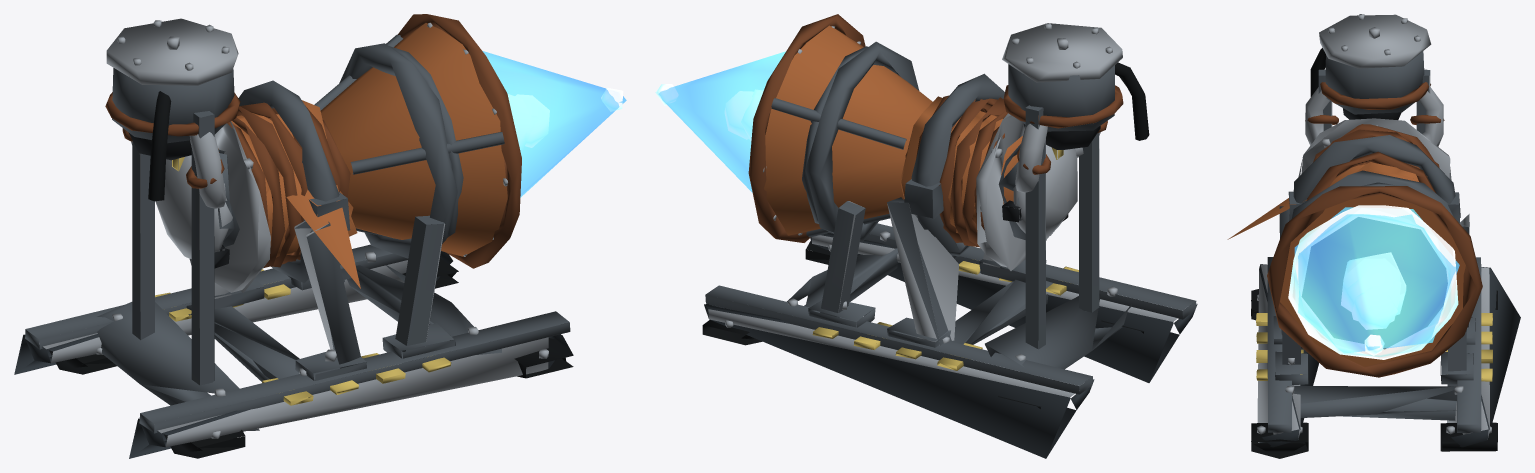
Rendered from thrust.glb.
3 views of the same model, side by side, from view 1: azimuth 30°, elevation 25°; view 2: azimuth 150°, elevation 25°; view 3: azimuth 270°, elevation 25° (orthographic). The views are drawn at different scales.
Parts seen in each view (by area): view 1: tobera, patin_1, llama, patin_alma_1, travesano_3, bomba_tapa, collar_tobera, brida_inyector, tobera_labio, bomba_pata_1, patin_-1, bomba (+30 smaller); view 2: tobera, patin_-1, patin_1, llama, patin_alma_-1, montante_-1, collar_tobera, bomba_tapa, travesano_3, abrazadera, tobera_labio, brida_inyector (+25 smaller); view 3: llama, tobera, tobera_labio, llama_flare, travesano_1, bomba_tapa, patin_-1, abrazadera, bomba, patin_1, patin_alma_-1, patin_alma_1 (+23 smaller).
Boxes of the visible parts, x1=… form: tobera: x1=320, y1=23, x2=507, y2=256; patin_1: x1=129, y1=334, x2=567, y2=458; llama: x1=482, y1=51, x2=626, y2=197; patin_alma_1: x1=139, y1=311, x2=570, y2=433; travesano_3: x1=97, y1=302, x2=259, y2=430; bomba_tapa: x1=106, y1=18, x2=238, y2=85; collar_tobera: x1=339, y1=43, x2=457, y2=258; brida_inyector: x1=189, y1=121, x2=270, y2=292; tobera_labio: x1=398, y1=14, x2=521, y2=268; bomba_pata_1: x1=191, y1=111, x2=214, y2=385; patin_-1: x1=14, y1=251, x2=452, y2=374; bomba: x1=112, y1=68, x2=234, y2=143; tobera: x1=764, y1=25, x2=932, y2=235; patin_-1: x1=704, y1=303, x2=1094, y2=458; patin_1: x1=810, y1=233, x2=1197, y2=382; llama: x1=658, y1=51, x2=785, y2=192; patin_alma_-1: x1=705, y1=285, x2=1092, y2=394; montante_-1: x1=887, y1=197, x2=958, y2=345; collar_tobera: x1=805, y1=41, x2=919, y2=241; bomba_tapa: x1=1002, y1=23, x2=1122, y2=82; travesano_3: x1=985, y1=294, x2=1137, y2=374; abrazadera: x1=911, y1=73, x2=1004, y2=256; tobera_labio: x1=748, y1=14, x2=865, y2=242; brida_inyector: x1=976, y1=113, x2=1046, y2=270; llama: x1=1294, y1=207, x2=1459, y2=353; tobera: x1=1280, y1=194, x2=1465, y2=366; tobera_labio: x1=1267, y1=186, x2=1482, y2=377; llama_flare: x1=1288, y1=205, x2=1458, y2=359; travesano_1: x1=1292, y1=386, x2=1456, y2=420; bomba_tapa: x1=1319, y1=14, x2=1431, y2=68; patin_-1: x1=1447, y1=267, x2=1520, y2=447; abrazadera: x1=1293, y1=135, x2=1455, y2=204; bomba: x1=1325, y1=51, x2=1424, y2=114; patin_1: x1=1257, y1=264, x2=1318, y2=447; patin_alma_-1: x1=1457, y1=257, x2=1481, y2=432; patin_alma_1: x1=1267, y1=257, x2=1291, y2=432.
Bounding box in the file's own units: 0.9337 × 0.6408 × 0.5407.
